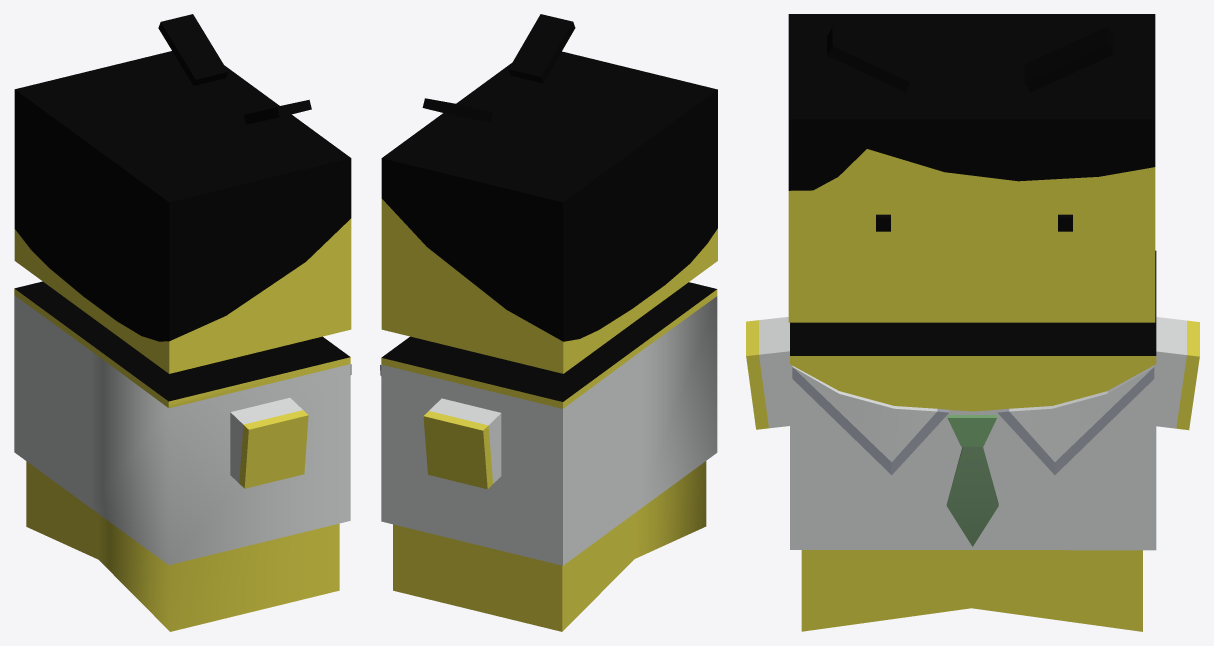
File: SteveDad 1.fbx
3 views of the same model, side by side, from view 1: azimuth 30°, elevation 25°; view 2: azimuth 150°, elevation 25°; view 3: azimuth 270°, elevation 25° (orthographic). The views are drawn at different scales.
Parts seen in each view (by area): view 1: Head, polySurface72, L_Leg1, L_Arm, R_leg1, R_Eyebrow, L_Eyebrow; view 2: Head, polySurface72, R_leg1, R_Arm, L_Leg1, L_Eyebrow, R_Eyebrow; view 3: Head, polySurface72, L_Leg1, R_leg1, polySurface64, polySurface63, L_Arm, R_Arm, polySurface70, R_Eyebrow, L_Eyebrow, polySurface71.
Boxes of the visible parts, x1,y1,x2,y2 form: Head: [14, 51, 351, 373]; polySurface72: [14, 281, 350, 564]; L_Leg1: [98, 514, 339, 631]; L_Arm: [230, 397, 308, 488]; R_leg1: [26, 461, 98, 559]; R_Eyebrow: [158, 14, 227, 85]; L_Eyebrow: [244, 99, 311, 124]; Head: [381, 51, 717, 373]; polySurface72: [381, 282, 717, 565]; R_leg1: [393, 514, 634, 631]; R_Arm: [423, 398, 501, 489]; L_Leg1: [634, 461, 706, 558]; L_Eyebrow: [508, 14, 575, 83]; R_Eyebrow: [422, 98, 492, 121]; Head: [788, 14, 1155, 322]; polySurface72: [790, 250, 1156, 550]; L_Leg1: [801, 550, 972, 631]; R_leg1: [972, 550, 1142, 631]; polySurface64: [792, 366, 949, 474]; polySurface63: [997, 366, 1154, 474]; L_Arm: [746, 317, 789, 429]; R_Arm: [1156, 317, 1199, 430]; polySurface70: [946, 446, 998, 546]; R_Eyebrow: [1024, 26, 1113, 92]; L_Eyebrow: [826, 27, 910, 91]; polySurface71: [947, 415, 996, 446].
Bounding box in the file's own units: 0.7033 × 1.74 × 1.24.
